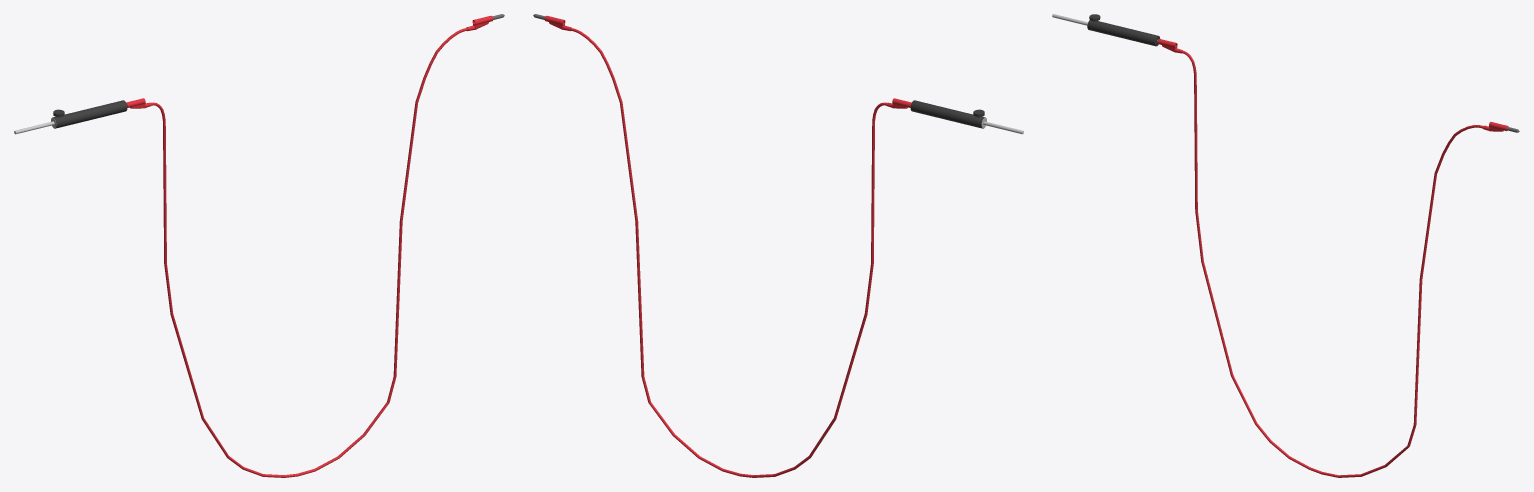
The model's file is Elektrode.fbx.
The picture shows the model from 3 angles, left to right: view 1: azimuth 30°, elevation 25°; view 2: azimuth 150°, elevation 25°; view 3: azimuth 330°, elevation 25°; orthographic projection. The views are drawn at different scales.
Parts seen in each view (by area): view 1: Cylinder.002, Handstueck; view 2: Cylinder.002, Handstueck; view 3: Cylinder.002, Handstueck.
Part boxes in pixels (x1,y1,x2,y2): Cylinder.002: (145,25,474,477); Handstueck: (51,100,127,128); Cylinder.002: (563,25,892,477); Handstueck: (910,100,986,128); Cylinder.002: (1175,48,1489,477); Handstueck: (1087,20,1160,46).
Size of the model in its own units: 9802 by 8082 by 200.
